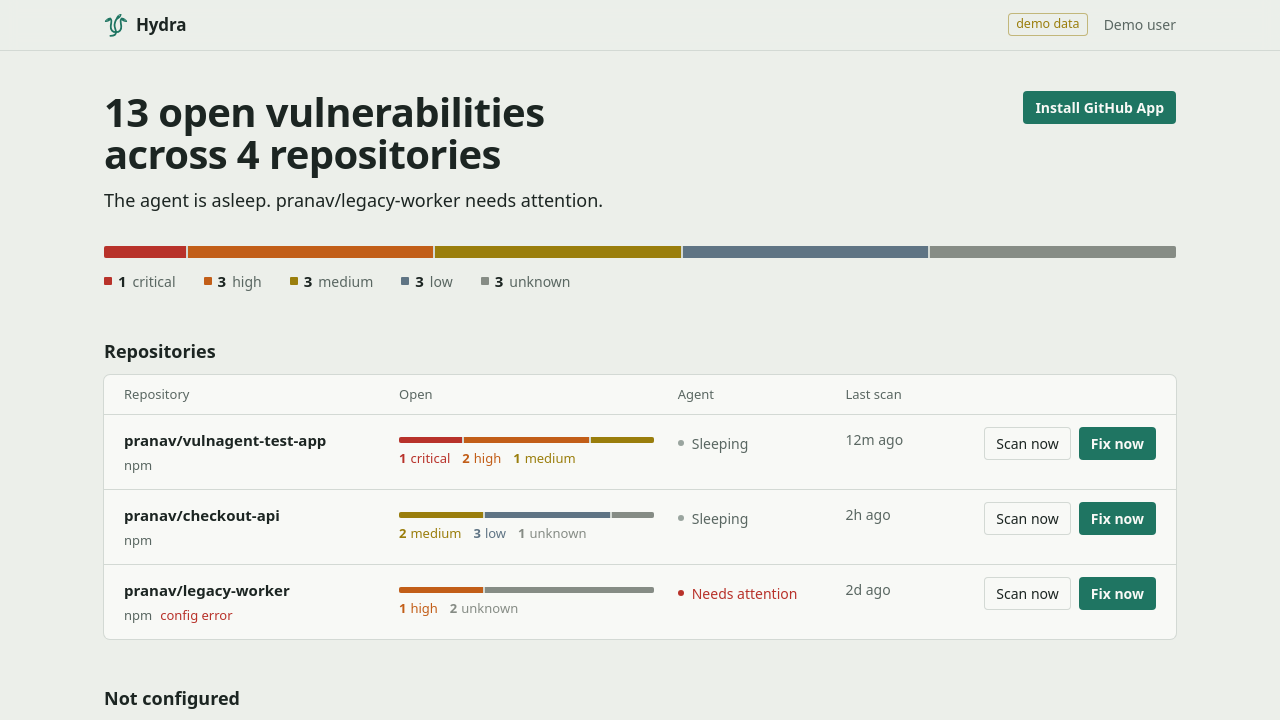
the repositories overview › names the repository the agent is working on
Click the button "Fix now" in the row of "pranav/vulnagent-test-app" at (1117, 444), box left=1079, top=427, right=1156, bottom=460
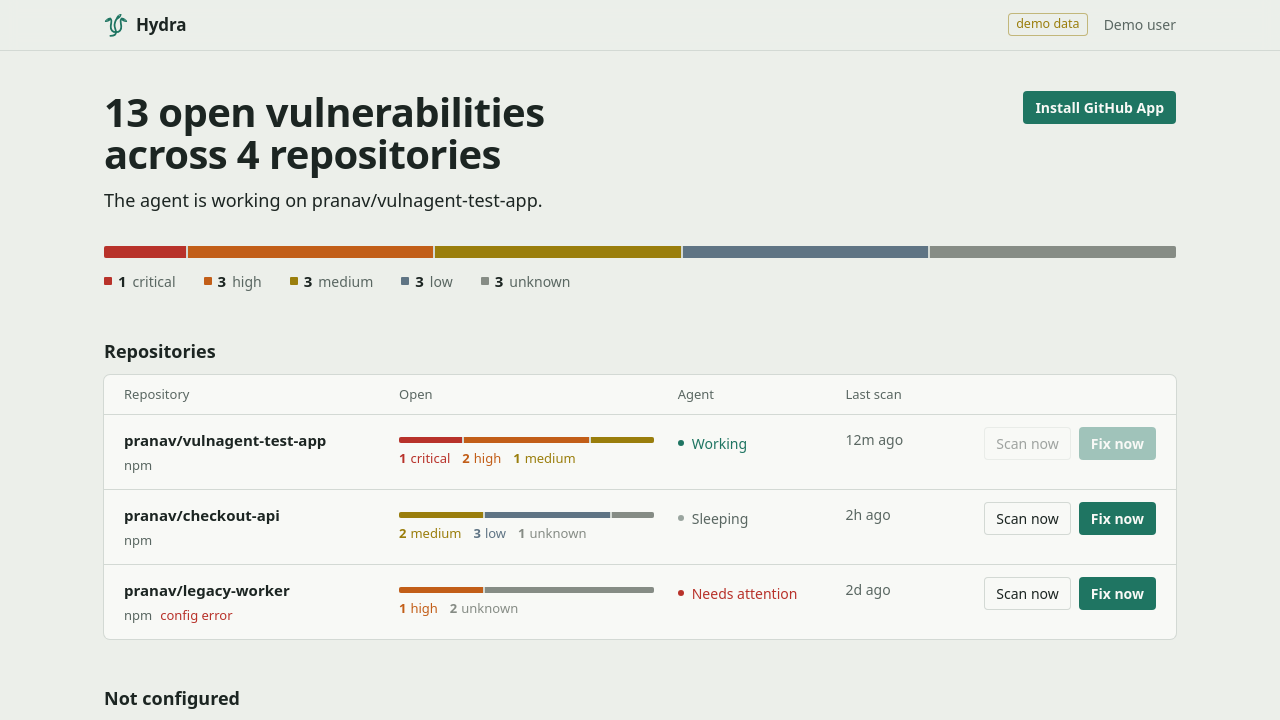
Now the text "The agent is working on pranav/vulnagent-test-app." is shown, box left=104, top=186, right=544, bottom=214
